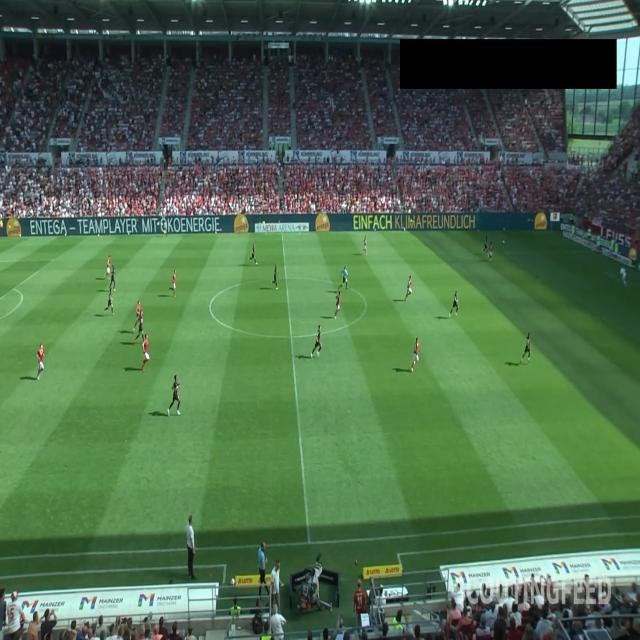ball: (502, 240, 505, 243)
